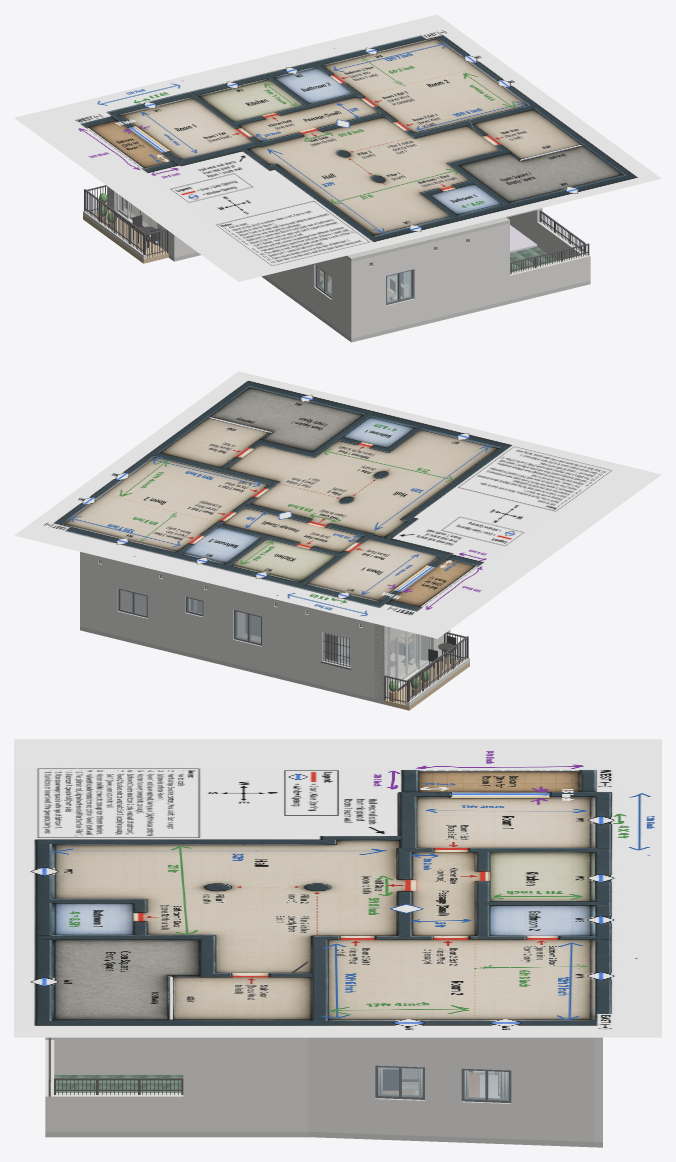
The model's file is MyFlat_V2_Room1_OPTION_E.glb.
3 views of the same model, one above another, from view 1: azimuth 30°, elevation 25°; view 2: azimuth 150°, elevation 25°; view 3: azimuth 270°, elevation 25° (orthographic). The views are drawn at different scales.
Parts seen in each view (by area): view 1: PLAN_REFERENCE_OVERLAY, WALL_EXT_S_HALL, WALL_EXT_W_HALL, PARAPET_OPENSQ_S, SLAB_FLOOR_STRUCTURAL, BALCONY_RAILING_W, SLAB_ROOF, BALCONY_FLOOR, PARAPET_OPENSQ_E, RAILING_OPENSQ_S, WALL_EXT_E_STAIR, HBB_OPENSQ_FINISH (+3 smaller); view 2: PLAN_REFERENCE_OVERLAY, WALL_EXT_N_R1, WALL_EXT_N_R2, WALL_EXT_N_KIT, WALL_EXT_N_B2, BALCONY_RAILING_W, SLAB_FLOOR_STRUCTURAL, PILLAR_R1_NW, BALCONY_FLOOR, R1_OPE_BALCONY_CURTAIN_SHEER, WALL_EXT_W_R1_BALCONY, WINDOW_W2_GLASS; view 3: PLAN_REFERENCE_OVERLAY, WALL_EXT_E_R2_TAPERED, WALL_EXT_E_STAIR, PARAPET_OPENSQ_E, WALL_INT_OPENSQ_W, SLAB_FLOOR_STRUCTURAL, HBB_OPENSQ_FINISH, WINDOW_W5_GLASS, WINDOW_W6_GLASS, RAILING_OPENSQ_E, WALL_EXT_N_R2, PARAPET_OPENSQ_S (+2 smaller).
Boxes of the visible parts, x1,y1,x2,y2 form: PLAN_REFERENCE_OVERLAY: (14,14,661,281); WALL_EXT_S_HALL: (348,223,509,338); WALL_EXT_W_HALL: (265,256,356,338); PARAPET_OPENSQ_S: (510,254,590,299); SLAB_FLOOR_STRUCTURAL: (168,252,590,342); BALCONY_RAILING_W: (84,189,145,254); SLAB_ROOF: (344,217,509,261); BALCONY_FLOOR: (83,210,168,263); PARAPET_OPENSQ_E: (537,221,587,260); RAILING_OPENSQ_S: (510,243,589,274); WALL_EXT_E_STAIR: (507,208,542,244); HBB_OPENSQ_FINISH: (510,246,556,272); PLAN_REFERENCE_OVERLAY: (14,371,661,638); WALL_EXT_N_R1: (283,601,387,700); WALL_EXT_N_R2: (80,553,176,649); WALL_EXT_N_KIT: (211,584,283,676); WALL_EXT_N_B2: (177,575,211,658); BALCONY_RAILING_W: (407,636,468,701); SLAB_FLOOR_STRUCTURAL: (80,626,449,704); PILLAR_R1_NW: (374,623,390,700); BALCONY_FLOOR: (384,657,469,710); R1_OPE_BALCONY_CURTAIN_SHEER: (390,632,421,680); WALL_EXT_W_R1_BALCONY: (375,624,449,698); WINDOW_W2_GLASS: (236,611,260,642); PLAN_REFERENCE_OVERLAY: (14,739,661,1037); WALL_EXT_E_R2_TAPERED: (307,1037,594,1141); WALL_EXT_E_STAIR: (183,1037,307,1131); PARAPET_OPENSQ_E: (54,1093,183,1131); WALL_INT_OPENSQ_W: (54,1037,183,1074); SLAB_FLOOR_STRUCTURAL: (45,1131,602,1147); HBB_OPENSQ_FINISH: (54,1075,183,1092); WINDOW_W5_GLASS: (464,1070,508,1099); WINDOW_W6_GLASS: (378,1067,422,1096); RAILING_OPENSQ_E: (54,1078,183,1094); WALL_EXT_N_R2: (594,1037,602,1142); PARAPET_OPENSQ_S: (45,1040,54,1131).
Size of what is drawn, in the model's own units: 18.03 by 4.33 by 16.55.
138 materials, 7 textured.
